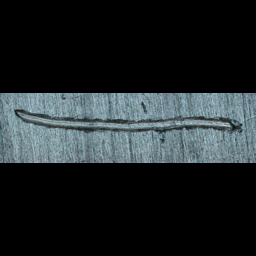d: (13, 107, 245, 139)
